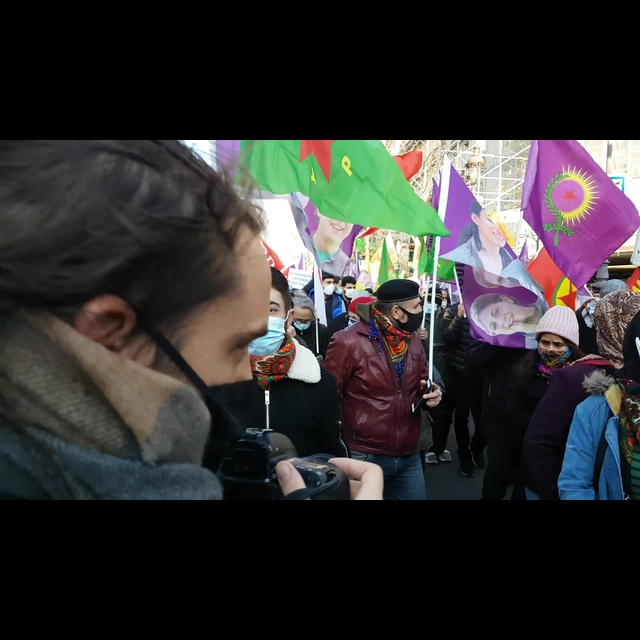YPJ: (237, 118, 451, 238)
